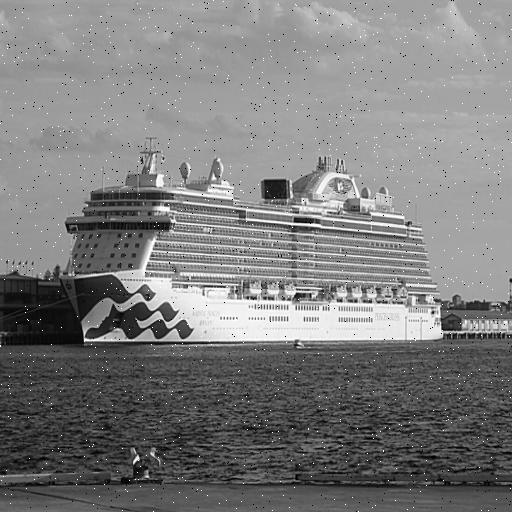cruises: (61, 130, 448, 350)
